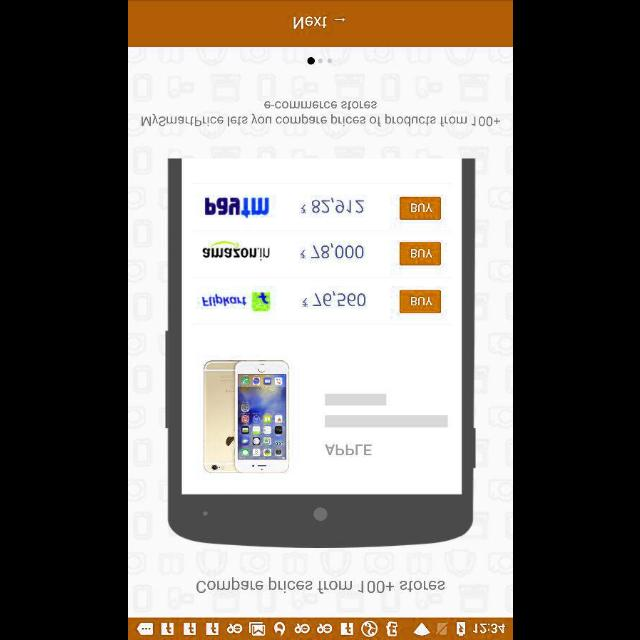image: (164, 158, 476, 548)
pageindicator: (306, 56, 332, 66)
text: (140, 100, 500, 128), (196, 576, 444, 594)
textbutton: (128, 0, 512, 48)
uppertaskbar: (128, 617, 512, 639)
